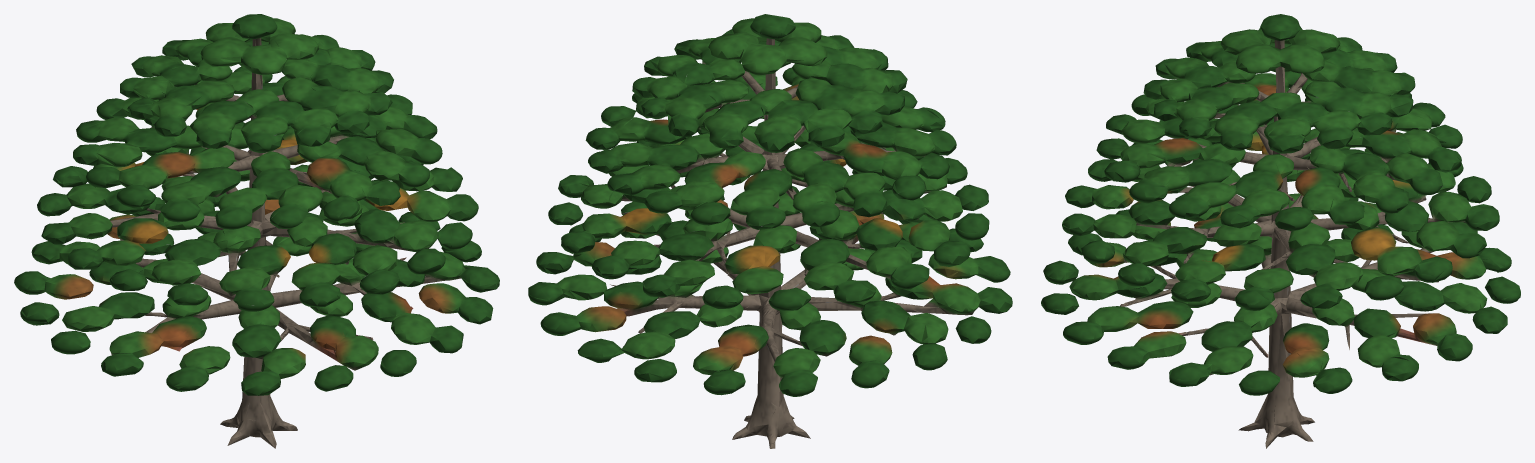
Rendered from cay_bang.glb.
The picture shows the model from 3 angles, left to right: view 1: azimuth 30°, elevation 25°; view 2: azimuth 150°, elevation 25°; view 3: azimuth 270°, elevation 25°; orthographic projection.
Parts seen in each view (by area): view 1: cay_bang; view 2: cay_bang; view 3: cay_bang.
Part boxes in pixels (x1=…): cay_bang: x1=14, y1=14, x2=499, y2=448; cay_bang: x1=528, y1=14, x2=1012, y2=448; cay_bang: x1=1041, y1=14, x2=1520, y2=448.
Bounding box in the file's own units: 9.31 × 8.82 × 9.28.
1 material, 1 textured.
